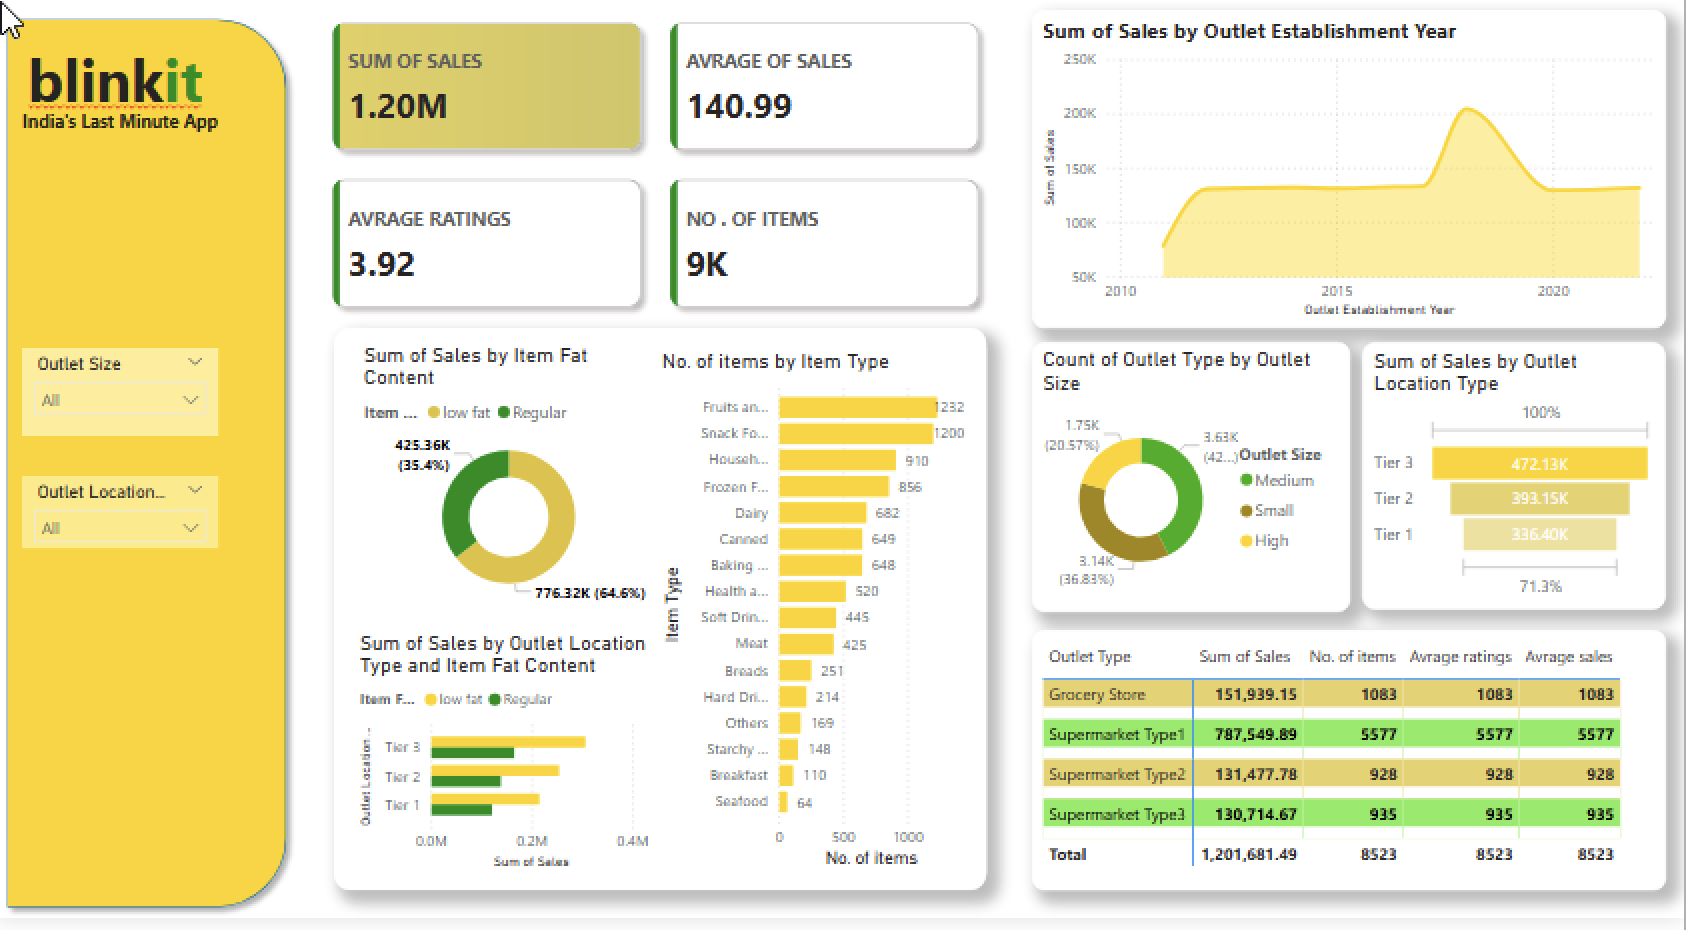

What the dashboard file says about the page in this screenshot:
{"tool":"powerbi","page":{"name":"Page 1","canvas":[1400,800],"ordinal":0},"visuals":[{"type":"shape","box":[0,44.8,250.5,754.7],"z":0},{"type":"textbox","box":[16.6,66.4,164.2,109.5],"z":1},{"type":"textbox","box":[0,122.7,205.7,53.1],"z":2},{"type":"cardVisual","fields":{"Data":["Sum(BlinkIT Grocery Data.Sales)","Avg(BlinkIT Grocery Data.Sales)","Avg(BlinkIT Grocery Data.Rating)","BlinkIT Grocery Data.No. of items"]},"box":[262.1,39.8,570.6,270.4],"z":3},{"type":"shape","box":[280.3,310.2,540.8,466.1],"z":4},{"type":"donutChart","fields":{"Category":["BlinkIT Grocery Data.Item Fat Content"],"Y":["Sum(BlinkIT Grocery Data.Sales)"]},"box":[300.2,321.8,250.5,223.9],"z":5},{"type":"clusteredBarChart","fields":{"Y":["Sum(BlinkIT Grocery Data.Sales)"],"Category":["BlinkIT Grocery Data.Outlet Location Type"],"Series":["BlinkIT Grocery Data.Item Fat Content"]},"box":[296.9,560.7,250.5,202.4],"z":6},{"type":"barChart","fields":{"Category":["BlinkIT Grocery Data.Item Type"],"Y":["BlinkIT Grocery Data.No. of items"]},"box":[547.4,326.8,273.7,436.3],"z":7},{"type":"lineChart","fields":{"Y":["Sum(BlinkIT Grocery Data.Sales)"],"Category":["BlinkIT Grocery Data.Outlet Establishment Year"]},"box":[859.2,46.4,525.8,263.7],"z":8},{"type":"donutChart","fields":{"Category":["BlinkIT Grocery Data.Outlet Size"],"Y":["CountNonNull(BlinkIT Grocery Data.Outlet Type)"]},"box":[859.2,321.8,263.7,223.9],"z":9},{"type":"funnel","fields":{"Y":["Sum(BlinkIT Grocery Data.Sales)"],"Category":["BlinkIT Grocery Data.Outlet Location Type"]},"box":[1132.9,321.8,252.1,222.3],"z":10},{"type":"pivotTable","fields":{"Rows":["BlinkIT Grocery Data.Outlet Type"],"Values":["Sum(BlinkIT Grocery Data.Sales)","BlinkIT Grocery Data.No. of items","BlinkIT Grocery Data.Avrage ratings","BlinkIT Grocery Data.Avrage sales"]},"box":[859.2,560.7,525.8,215.6],"z":11},{"type":"slicer","fields":{"Values":["BlinkIT Grocery Data.Outlet Location Type"]},"box":[21.6,432.9,162.6,59.7],"z":12},{"type":"slicer","fields":{"Values":["BlinkIT Grocery Data.Outlet Size"]},"box":[21.6,326.8,162.6,73],"z":13}]}

Visuals, with their boxes in screenshot pixels (x1, y1, x2, y2):
shape: left=18, top=31, right=316, bottom=929
textbox: left=37, top=57, right=233, bottom=187
textbox: left=18, top=124, right=262, bottom=187
cardVisual - Sum(BlinkIT Grocery Data.Sales) x Avg(BlinkIT Grocery Data.Sales): left=329, top=25, right=1008, bottom=347
shape: left=351, top=347, right=994, bottom=901
donutChart - BlinkIT Grocery Data.Item Fat Content x Sum(BlinkIT Grocery Data.Sales): left=375, top=361, right=673, bottom=627
clusteredBarChart - Sum(BlinkIT Grocery Data.Sales) x BlinkIT Grocery Data.Outlet Location Type: left=371, top=645, right=669, bottom=886
barChart - BlinkIT Grocery Data.Item Type x BlinkIT Grocery Data.No. of items: left=669, top=367, right=994, bottom=886
lineChart - Sum(BlinkIT Grocery Data.Sales) x BlinkIT Grocery Data.Outlet Establishment Year: left=1040, top=33, right=1665, bottom=347
donutChart - BlinkIT Grocery Data.Outlet Size x CountNonNull(BlinkIT Grocery Data.Outlet Type): left=1040, top=361, right=1353, bottom=627
funnel - Sum(BlinkIT Grocery Data.Sales) x BlinkIT Grocery Data.Outlet Location Type: left=1365, top=361, right=1665, bottom=625
pivotTable - BlinkIT Grocery Data.Outlet Type x Sum(BlinkIT Grocery Data.Sales): left=1040, top=645, right=1665, bottom=901
slicer - BlinkIT Grocery Data.Outlet Location Type: left=43, top=493, right=237, bottom=564
slicer - BlinkIT Grocery Data.Outlet Size: left=43, top=367, right=237, bottom=454
